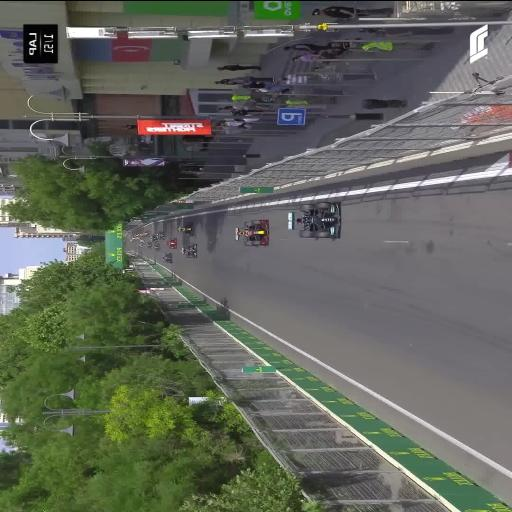f1_car: (288, 201, 339, 237), (236, 218, 268, 245), (181, 243, 197, 257), (177, 222, 192, 234), (165, 237, 176, 247), (162, 252, 172, 262), (152, 243, 159, 250)
